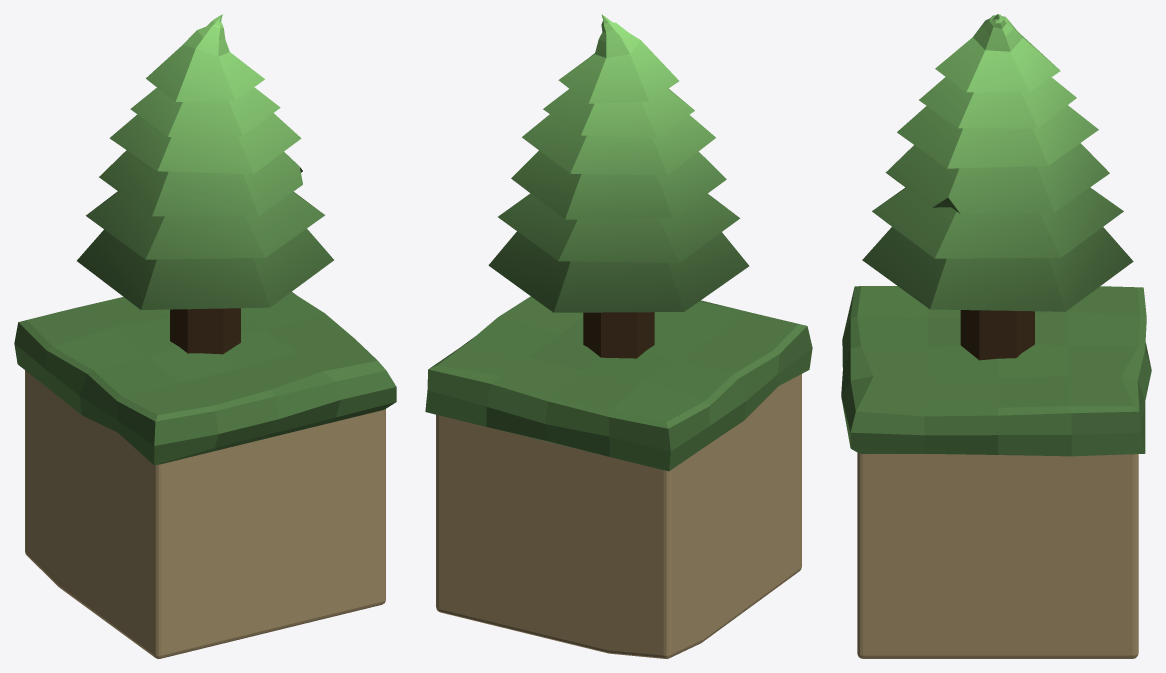
The model's file is env_suelo_arbol.fbx.
3 renders of one model, left to right at view 1: azimuth 30°, elevation 25°; view 2: azimuth 150°, elevation 25°; view 3: azimuth 270°, elevation 25°, orthographic. The views are drawn at different scales.
Parts seen in each view (by area): view 1: env_suelo_hierba_arbol; view 2: env_suelo_hierba_arbol; view 3: env_suelo_hierba_arbol.
Part boxes in pixels (x1,y1,x2,y2): env_suelo_hierba_arbol: (14, 14, 396, 658); env_suelo_hierba_arbol: (425, 14, 812, 658); env_suelo_hierba_arbol: (841, 14, 1151, 658).
Bounding box in the file's own units: 7.9 × 16.98 × 8.01.
